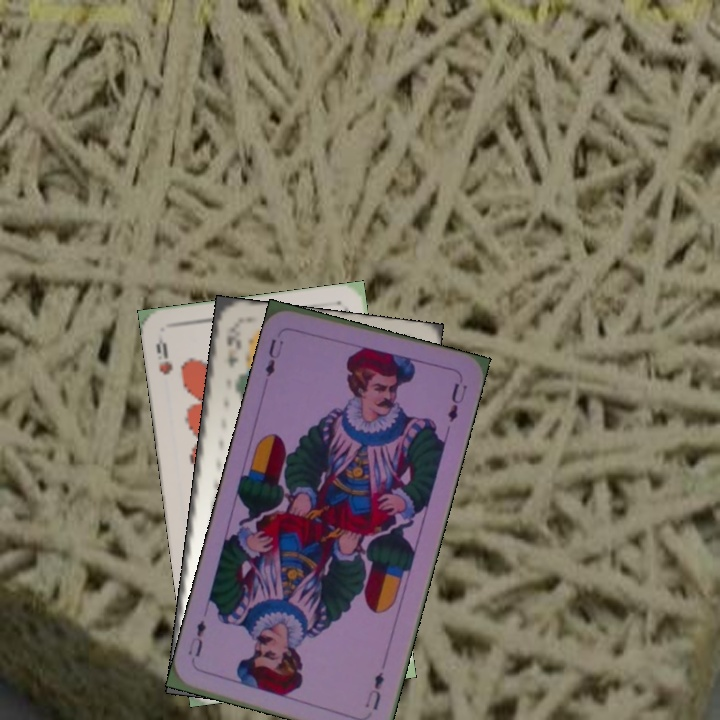EK: (223, 330, 245, 370)
EU: (361, 668, 387, 713), (261, 335, 286, 380)
H9: (152, 339, 175, 377)
